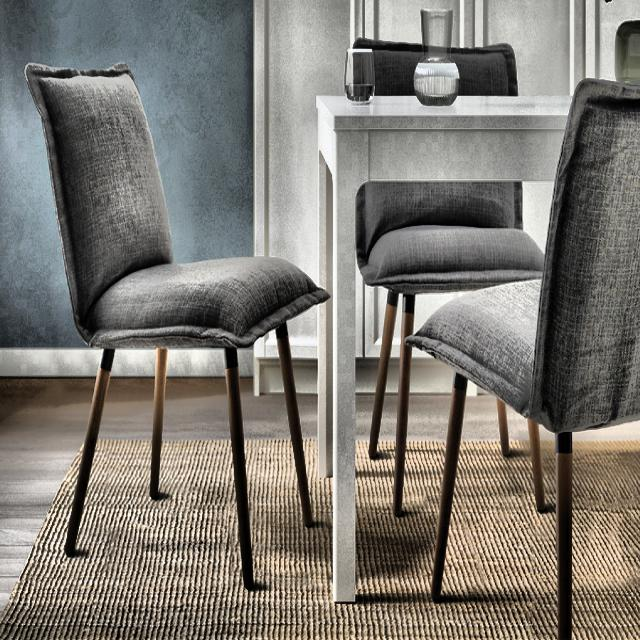cadeira: (22, 51, 318, 592), (415, 73, 639, 640), (349, 24, 548, 528)
